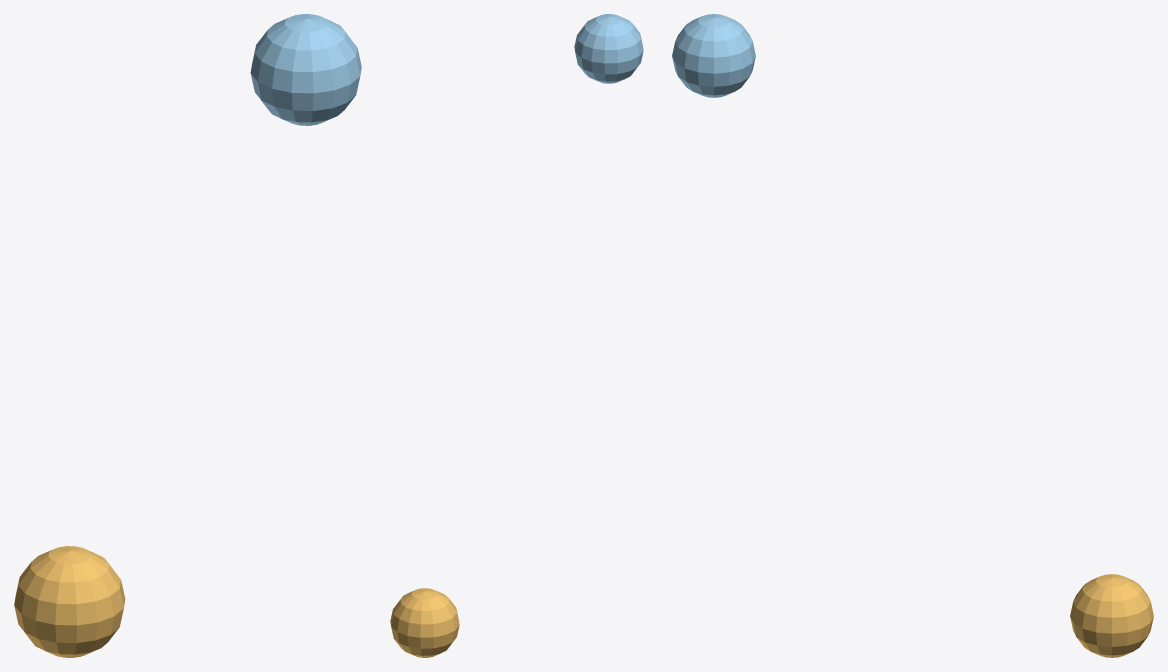
File: marker-paths.glb
3 renders of one model, left to right at view 1: azimuth 30°, elevation 25°; view 2: azimuth 150°, elevation 25°; view 3: azimuth 270°, elevation 25°, orthographic. The views are drawn at different scales.
Parts seen in each view (by area): view 1: Sacrum endpoint, Head endpoint; view 2: Sacrum endpoint, Head endpoint; view 3: Sacrum endpoint, Head endpoint.
Part boxes in pixels (x1,y1,x2,y2): Sacrum endpoint: (14, 546, 125, 657); Head endpoint: (250, 14, 361, 125); Sacrum endpoint: (390, 588, 459, 657); Head endpoint: (574, 14, 643, 83); Sacrum endpoint: (1070, 574, 1153, 657); Head endpoint: (672, 14, 755, 97).
Bounding box in the file's own units: 0.00339 × 0.0214 × 0.0149.
